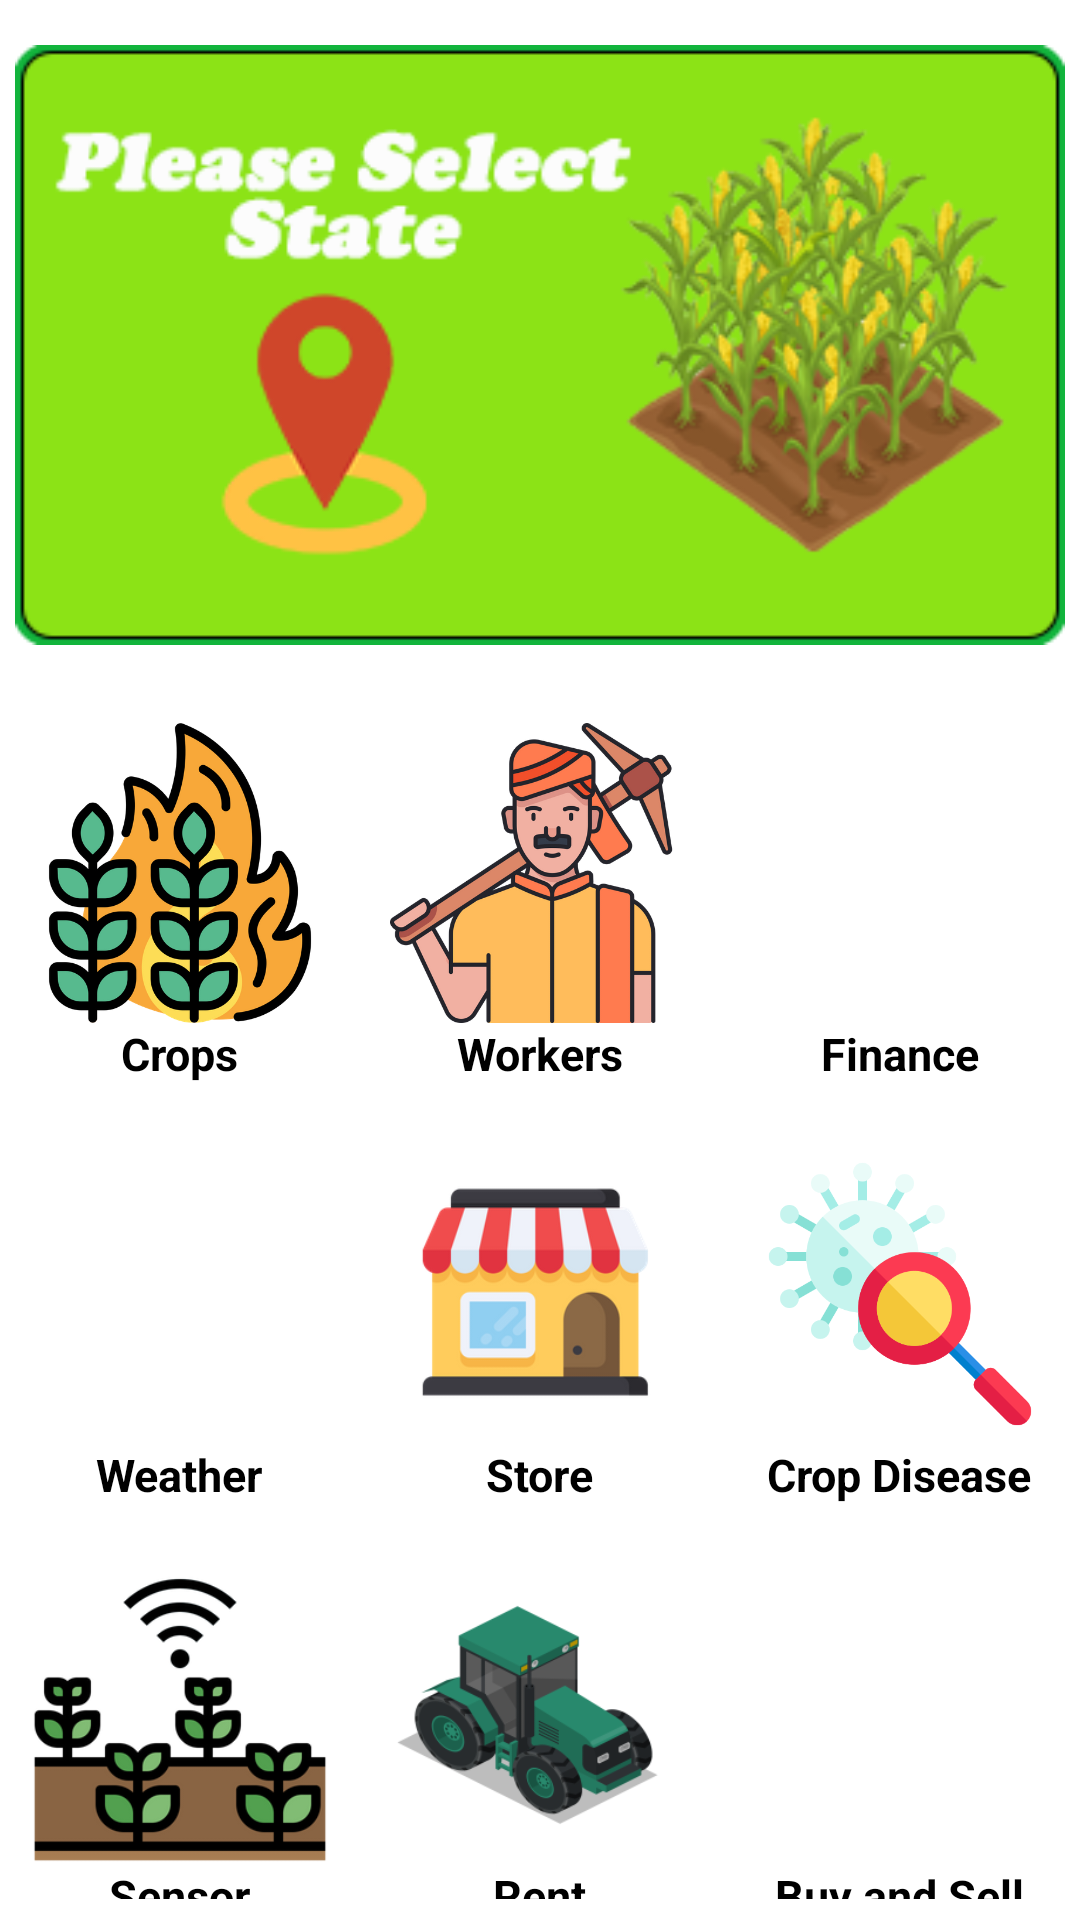

Where icons sit on this 1080*1920 app screen, as bbox(x1, y1, x2, y2):
farmer: bbox(390, 723, 673, 1023)
tractor: bbox(398, 1606, 657, 1824)
virus scan: bbox(769, 1180, 1031, 1425)
